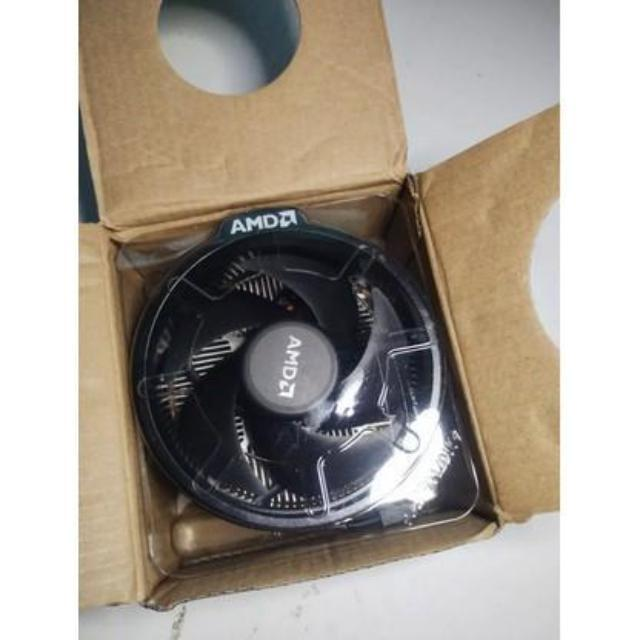CPU_Fan: (120, 212, 449, 528)
